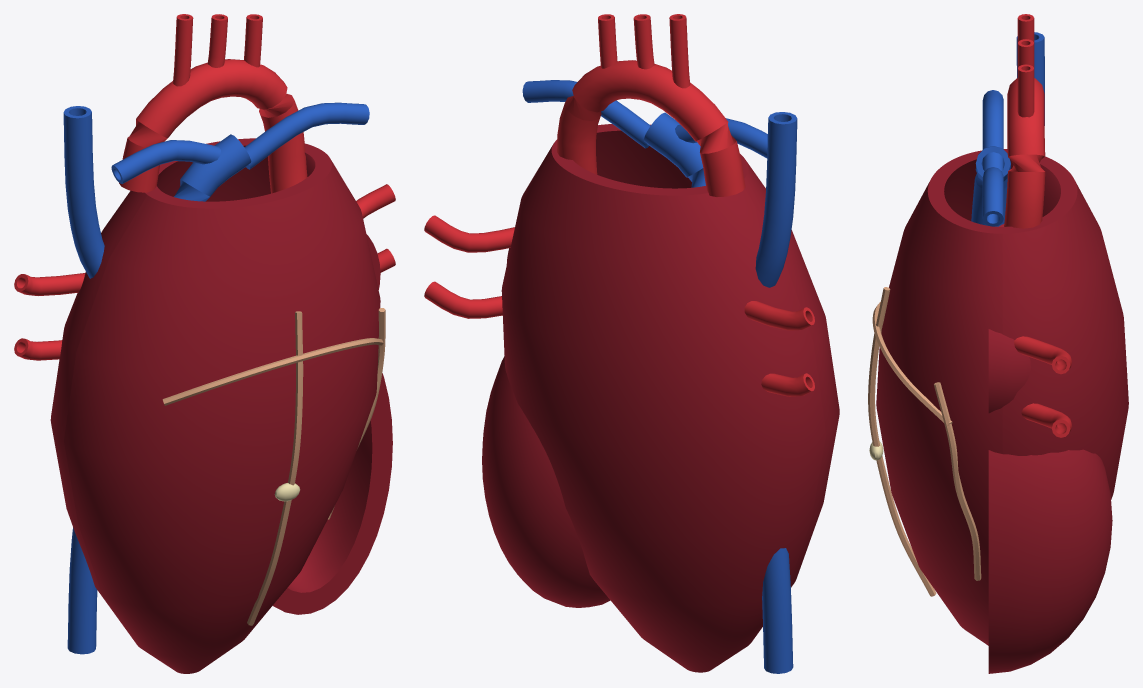
Rendered from heart_cutaway.glb.
The picture shows the model from 3 angles, left to right: view 1: azimuth 30°, elevation 25°; view 2: azimuth 150°, elevation 25°; view 3: azimuth 270°, elevation 25°; orthographic projection. The views are drawn at different scales.
Visible parts, largest first — view 1: myocardium-front, myocardium-back, aorta, pulmonary-trunk, vena-cavae, coronary-arteries, pulmonary-veins; view 2: myocardium-back, aorta, myocardium-front, vena-cavae, pulmonary-veins, pulmonary-trunk; view 3: myocardium-back, myocardium-front, aorta, coronary-arteries, pulmonary-trunk, pulmonary-veins, vena-cavae.
Boxes of the visible parts, x1=… form: myocardium-front: x1=64, y1=152, x2=380, y2=673; myocardium-back: x1=50, y1=138, x2=392, y2=647; aorta: x1=119, y1=14, x2=307, y2=193; pulmonary-trunk: x1=111, y1=102, x2=369, y2=201; vena-cavae: x1=63, y1=106, x2=104, y2=654; coronary-arteries: x1=162, y1=308, x2=385, y2=625; pulmonary-veins: x1=14, y1=184, x2=395, y2=360; myocardium-back: x1=482, y1=139, x2=826, y2=672; aorta: x1=557, y1=14, x2=745, y2=196; myocardium-front: x1=596, y1=124, x2=839, y2=645; vena-cavae: x1=755, y1=112, x2=797, y2=673; pulmonary-veins: x1=424, y1=215, x2=814, y2=396; pulmonary-trunk: x1=522, y1=80, x2=767, y2=187; myocardium-back: x1=988, y1=149, x2=1128, y2=673; myocardium-front: x1=876, y1=150, x2=1002, y2=645; aorta: x1=1004, y1=14, x2=1045, y2=228; coronary-arteries: x1=868, y1=287, x2=981, y2=596; pulmonary-trunk: x1=971, y1=90, x2=1010, y2=226; pulmonary-veins: x1=1014, y1=336, x2=1071, y2=437; vena-cavae: x1=1016, y1=32, x2=1044, y2=125.
Size of the model in its own units: 0.1833 by 0.2982 by 0.1115.
